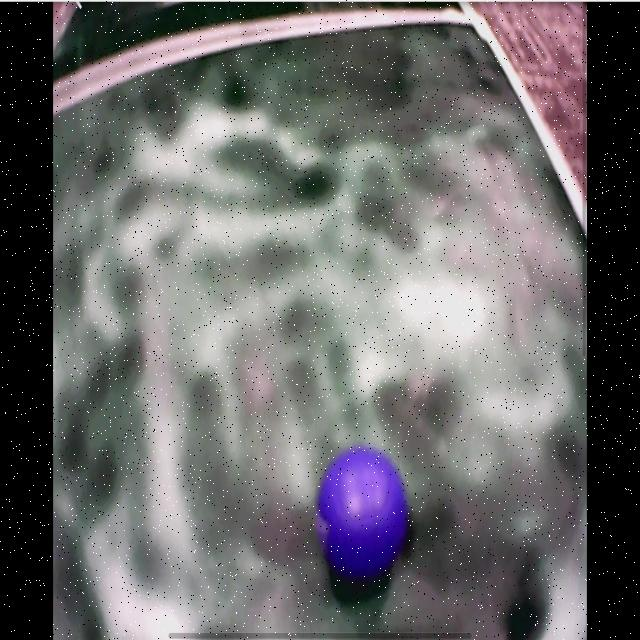ball: (319, 446, 407, 578)
